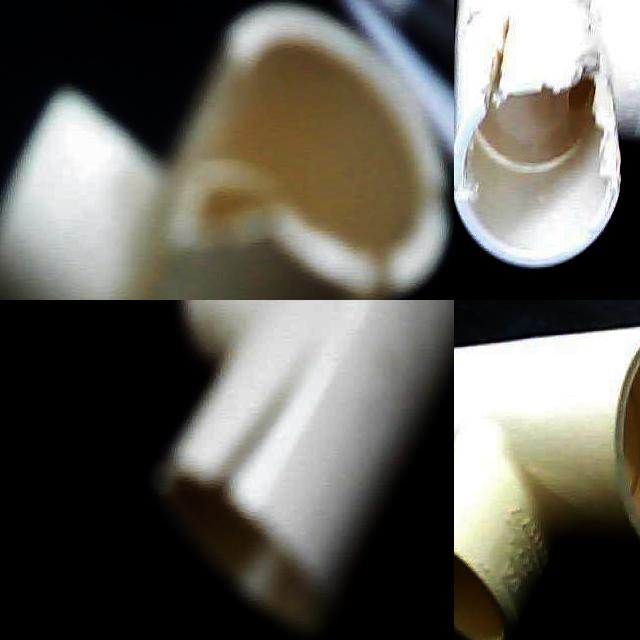Defective: (144, 53, 285, 247), (196, 399, 297, 546), (549, 39, 622, 215), (302, 252, 407, 300), (490, 0, 515, 140)
T Joint: (454, 325, 640, 640)
